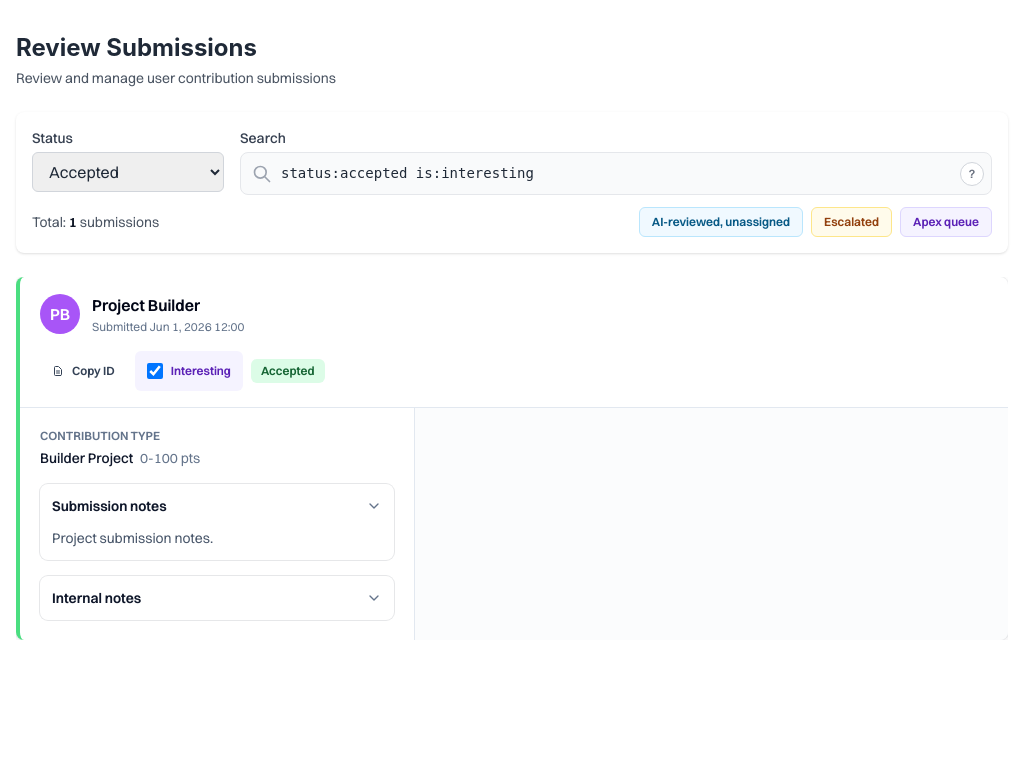
Steward submissions queue shortcuts › uses the last applied query when updating queue flags
Replace the text in the dropdown with placeholder "Search URL or text, or type sort:-reviewed..." with "status:accepted not:interesting". click: (616, 174)
box: top-left (240, 152), bottom-right (992, 195)
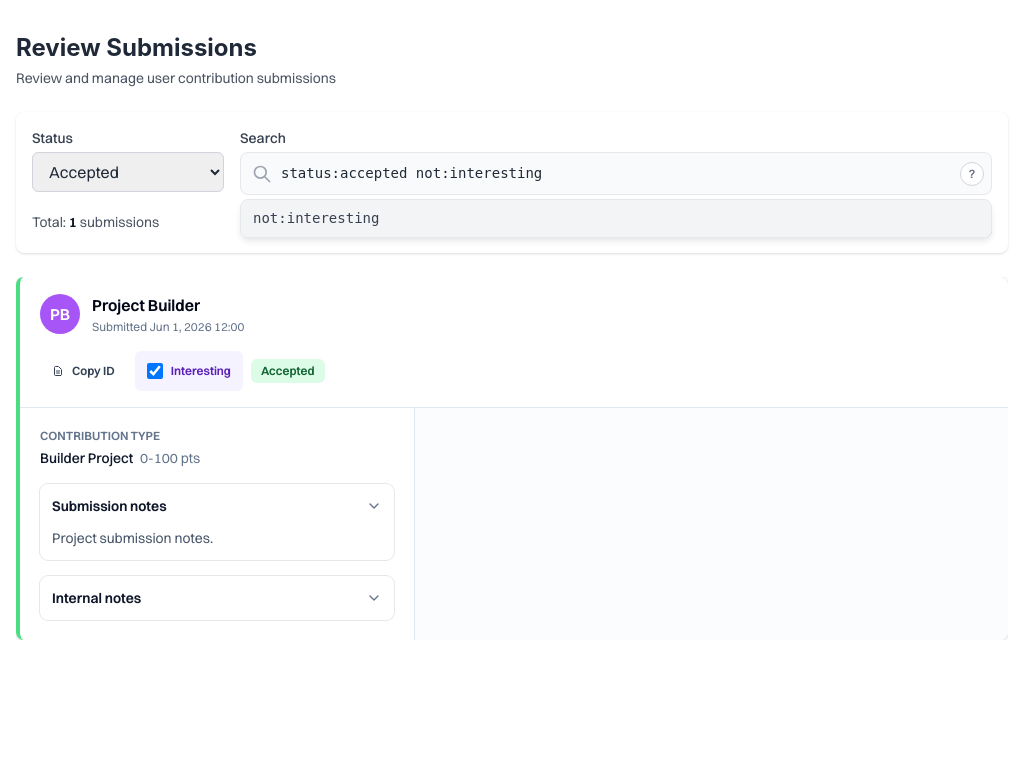
Click the checkbox labelled "Interesting". click: click(155, 371)
box: top-left (147, 363), bottom-right (163, 379)
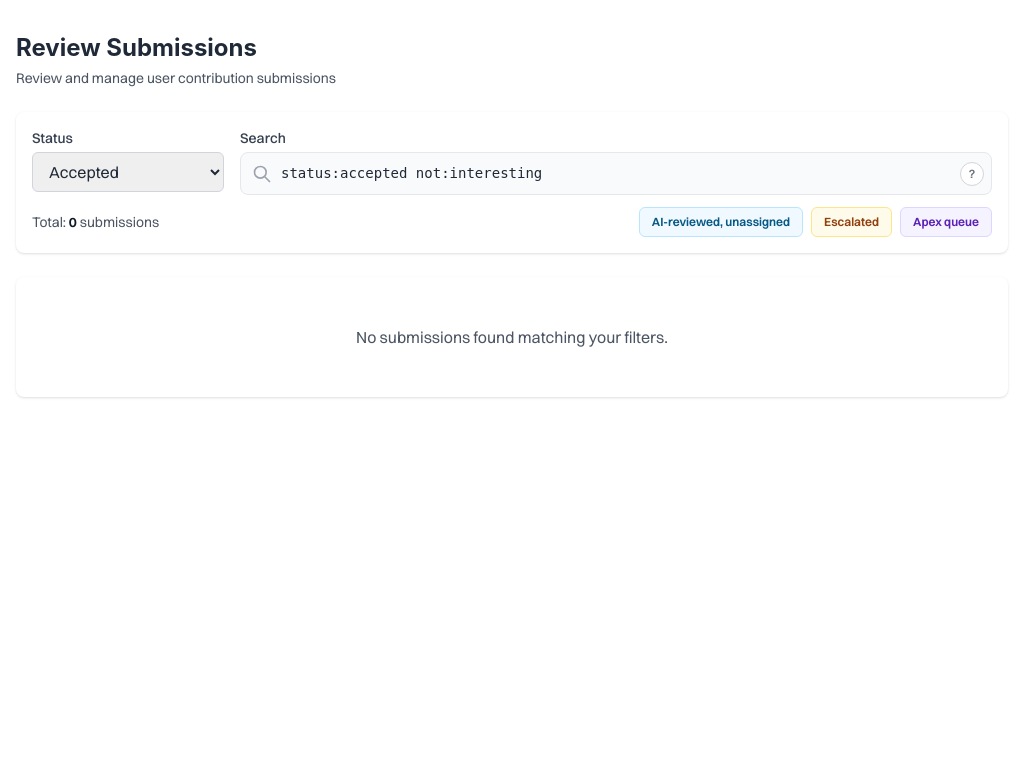
Check: the text "0" is shown, box top-left (69, 213), bottom-right (77, 231)
Check: the text "No submissions found matching your filters." is shown, box top-left (356, 327), bottom-right (668, 347)
